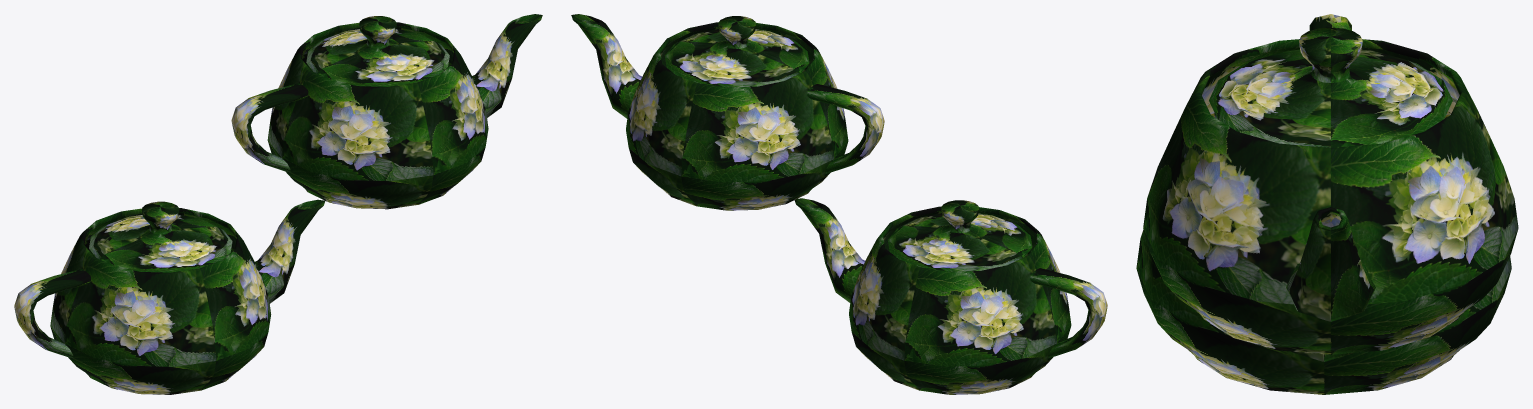
Rendered from myteapot.FBX.
The picture shows the model from 3 angles, left to right: view 1: azimuth 30°, elevation 25°; view 2: azimuth 150°, elevation 25°; view 3: azimuth 270°, elevation 25°; orthographic projection. The views are drawn at different scales.
Parts seen in each view (by area): view 1: Teapot001, Teapot002; view 2: Teapot001, Teapot002; view 3: Teapot002, Teapot001.
Boxes of the visible parts, <box> form: Teapot001: <box>14,199,325,394</box>; Teapot002: <box>231,14,542,209</box>; Teapot001: <box>794,198,1107,394</box>; Teapot002: <box>571,14,884,210</box>; Teapot002: <box>1143,14,1518,354</box>; Teapot001: <box>1136,230,1511,394</box>.
Bounding box in the file's own units: 4243 × 2220 × 1572.
Materials: 1 (1 with a texture image).
